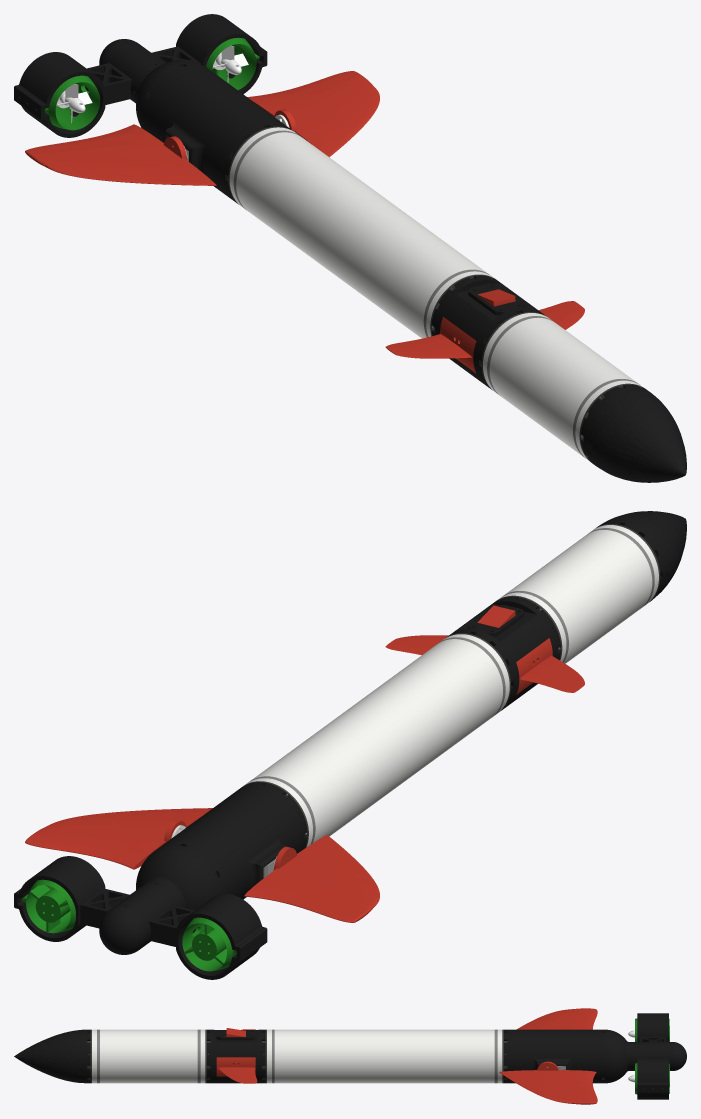
Rendered from MRV Baracuda.glb.
The picture shows the model from 3 angles, top to bottom: view 1: azimuth 30°, elevation 25°; view 2: azimuth 150°, elevation 25°; view 3: azimuth 270°, elevation 25°; orthographic projection. The views are drawn at different scales.
Parts seen in each view (by area): view 1: Node6, Node2, Node5, Node4, Node10, Node7, Node9, Node8; view 2: Node6, Node2, Node5, Node4, Node10, Node7, Node8; view 3: Node6, Node2, Node5, Node4, Node7, Node8, Node10.
Boxes of the visible parts, x1,y1,x2,y2 form: Node6: (184,114,643,461); Node2: (14,34,545,389); Node5: (25,71,584,373); Node4: (14,14,686,482); Node10: (44,37,259,130); Node7: (233,130,639,458); Node9: (56,45,248,123); Node8: (228,126,644,461); Node6: (171,525,658,868); Node2: (14,596,560,979); Node5: (25,605,584,922); Node4: (17,511,686,975); Node10: (21,879,236,971); Node7: (248,528,654,844); Node8: (245,524,660,847); Node6: (92,1029,547,1083); Node2: (207,1013,670,1099); Node5: (216,1008,597,1104); Node4: (14,1029,686,1089); Node7: (97,1029,497,1083); Node8: (87,1029,507,1083); Node10: (635,1018,669,1094).
Size of the model in its own units: 0.459 by 0.1128 by 1.38.
